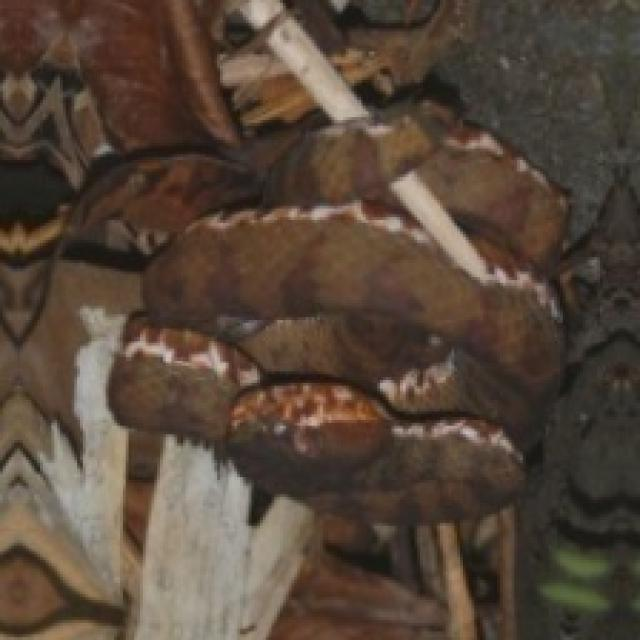philippine pitviper: (86, 115, 565, 522)
